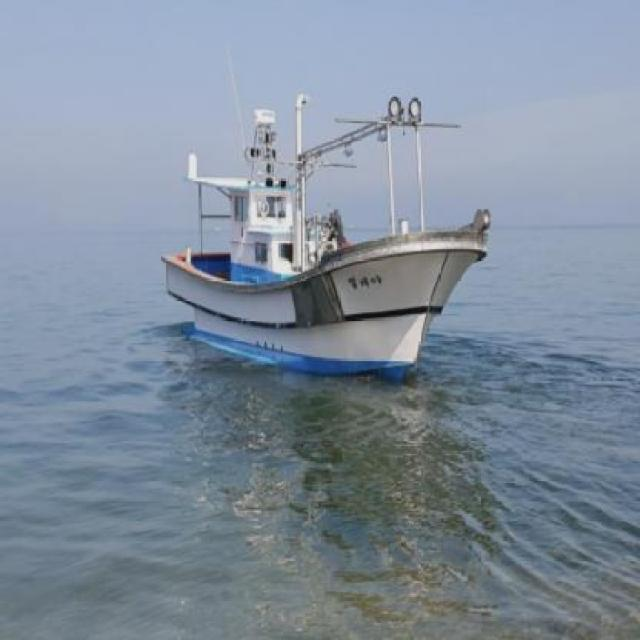fish-b: (167, 67, 500, 413)
